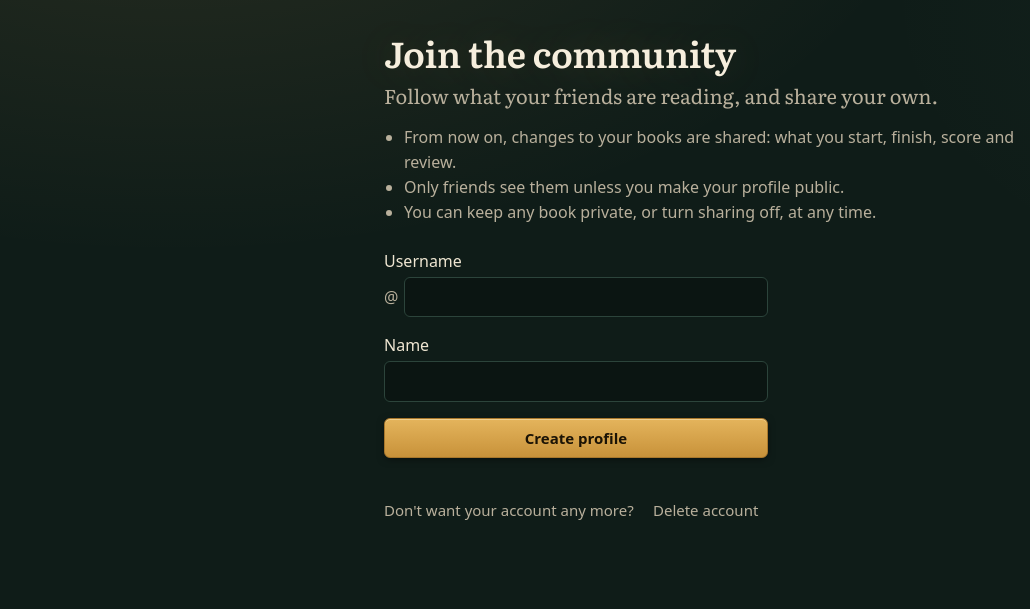
Test: joining › aBadUsernameIsExplainedWithoutACall
Step 1. Type "a!" into the field labelled "Username" → (586, 297), box [404, 277, 768, 317]
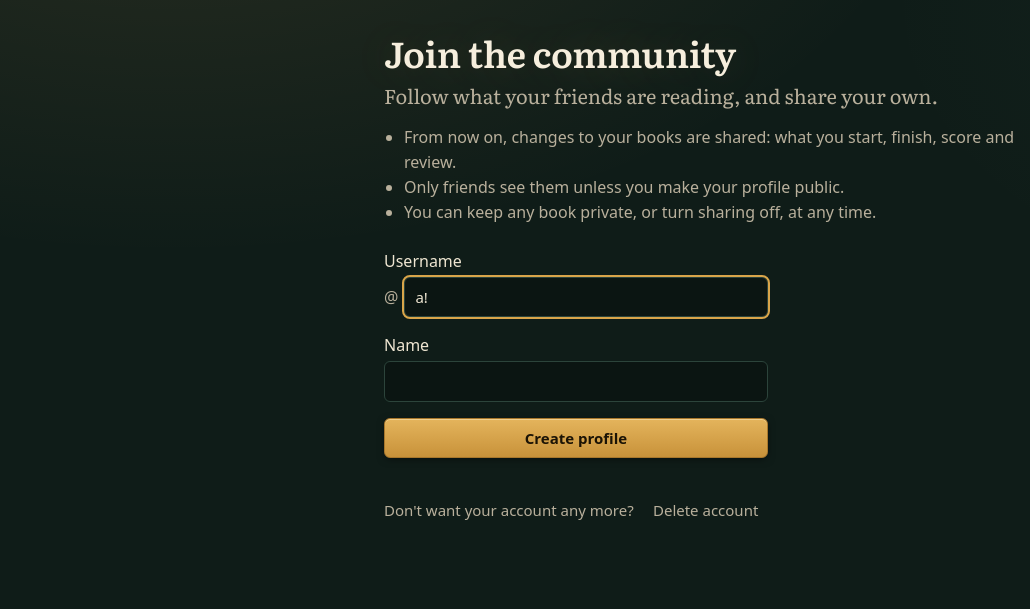
Step 2. Type "Mario" into the field labelled "Name" → (576, 381), box [384, 361, 768, 402]
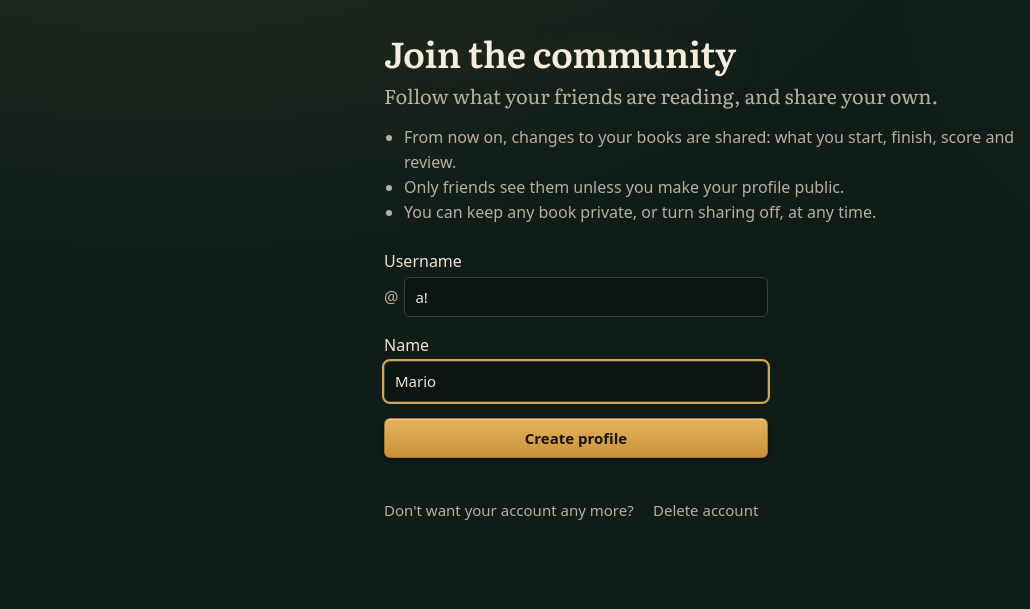
Step 3. Click the button "Create profile" → (576, 438), box [384, 418, 768, 458]
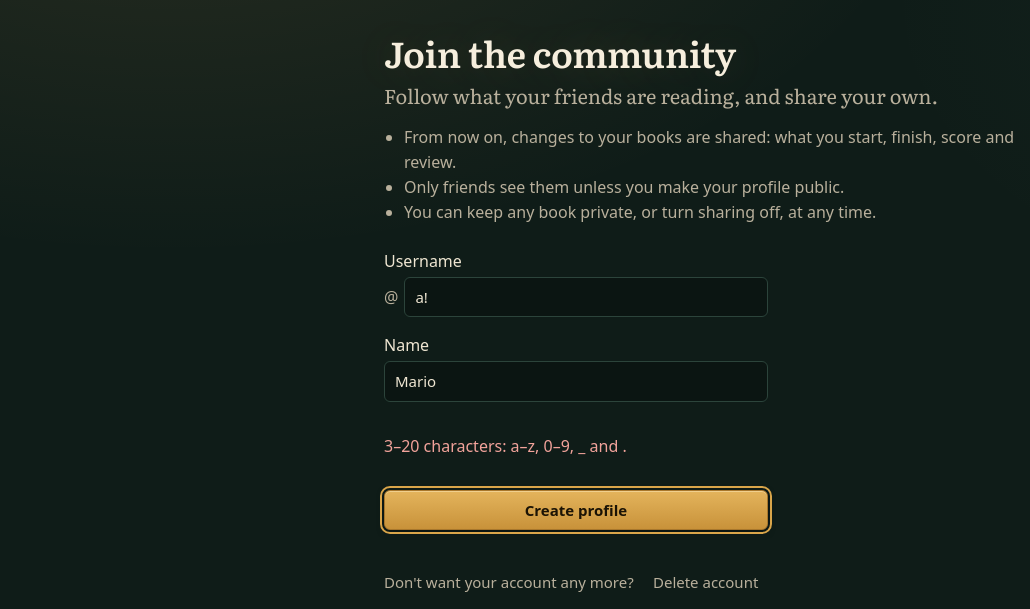
Expected: the message shows "3–20 characters", [384, 435, 627, 457]
